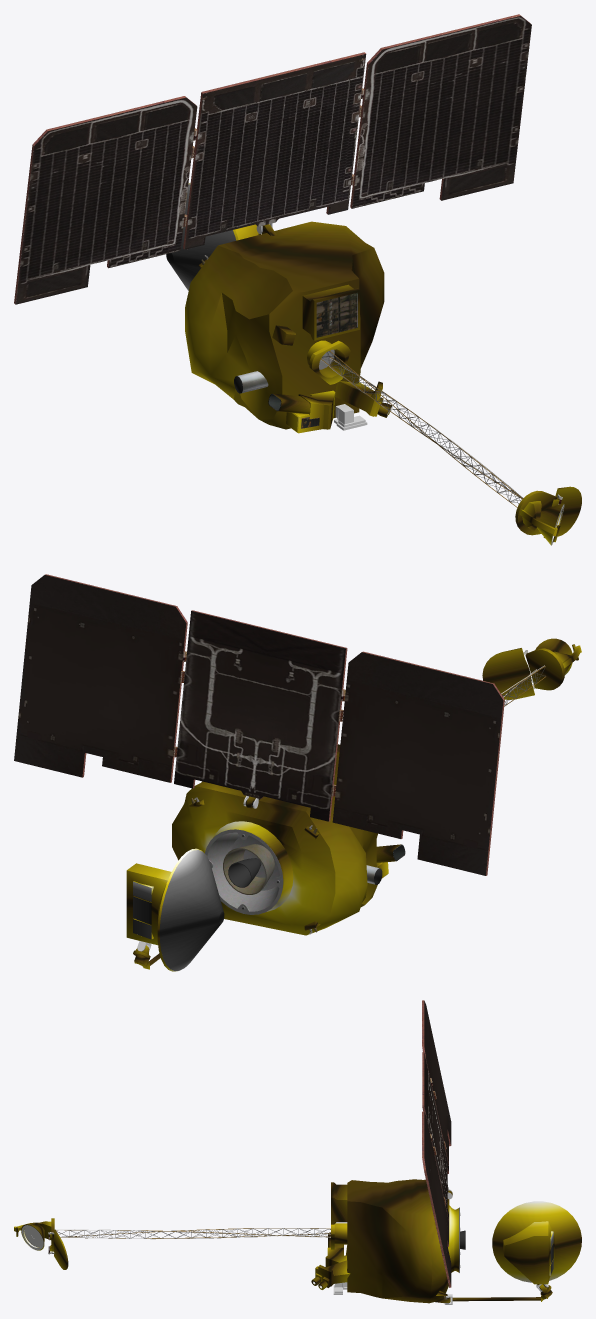
File: odyssey_lod0.glb
3 renders of one model, top to bottom at view 1: azimuth 30°, elevation 25°; view 2: azimuth 150°, elevation 25°; view 3: azimuth 270°, elevation 25°, orthographic. The views are drawn at different scales.
Parts seen in each view (by area): view 1: odyssey_lod0; view 2: odyssey_lod0; view 3: odyssey_lod0.
Part boxes in pixels (left/top/right/bottom): odyssey_lod0: left=14, top=14, right=581, bottom=545; odyssey_lod0: left=14, top=574, right=581, bottom=971; odyssey_lod0: left=14, top=1000, right=581, bottom=1304.
Size of the model in its own units: 5.65 by 3.35 by 8.19.
10 materials, 8 textured.
